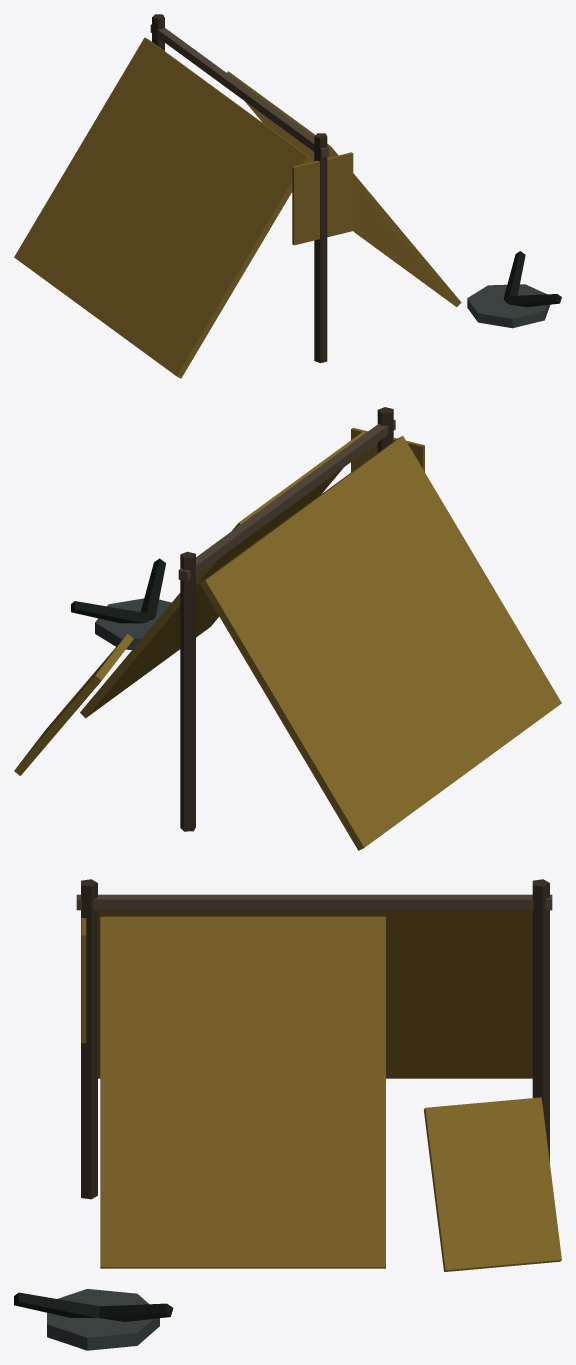
File: decor_tent.glb
3 renders of one model, top to bottom at view 1: azimuth 30°, elevation 25°; view 2: azimuth 150°, elevation 25°; view 3: azimuth 270°, elevation 25°, orthographic. The views are drawn at different scales.
Parts seen in each view (by area): view 1: decor_tent; view 2: decor_tent; view 3: decor_tent.
Boxes of the visible parts, x1,y1,x2,y2 form: decor_tent: (14,14,561,378); decor_tent: (14,407,561,850); decor_tent: (14,879,561,1350).
Size of the model in its own units: 2.54 by 1.45 by 2.3.
